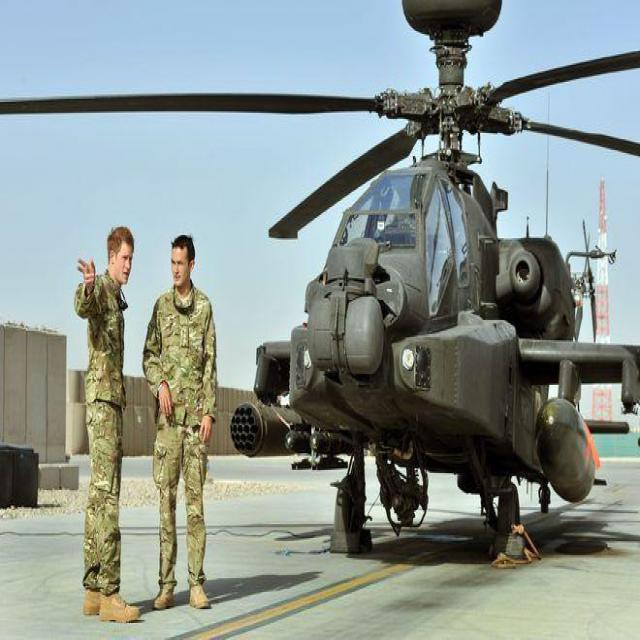MIL_HELO: (3, 0, 639, 569)
